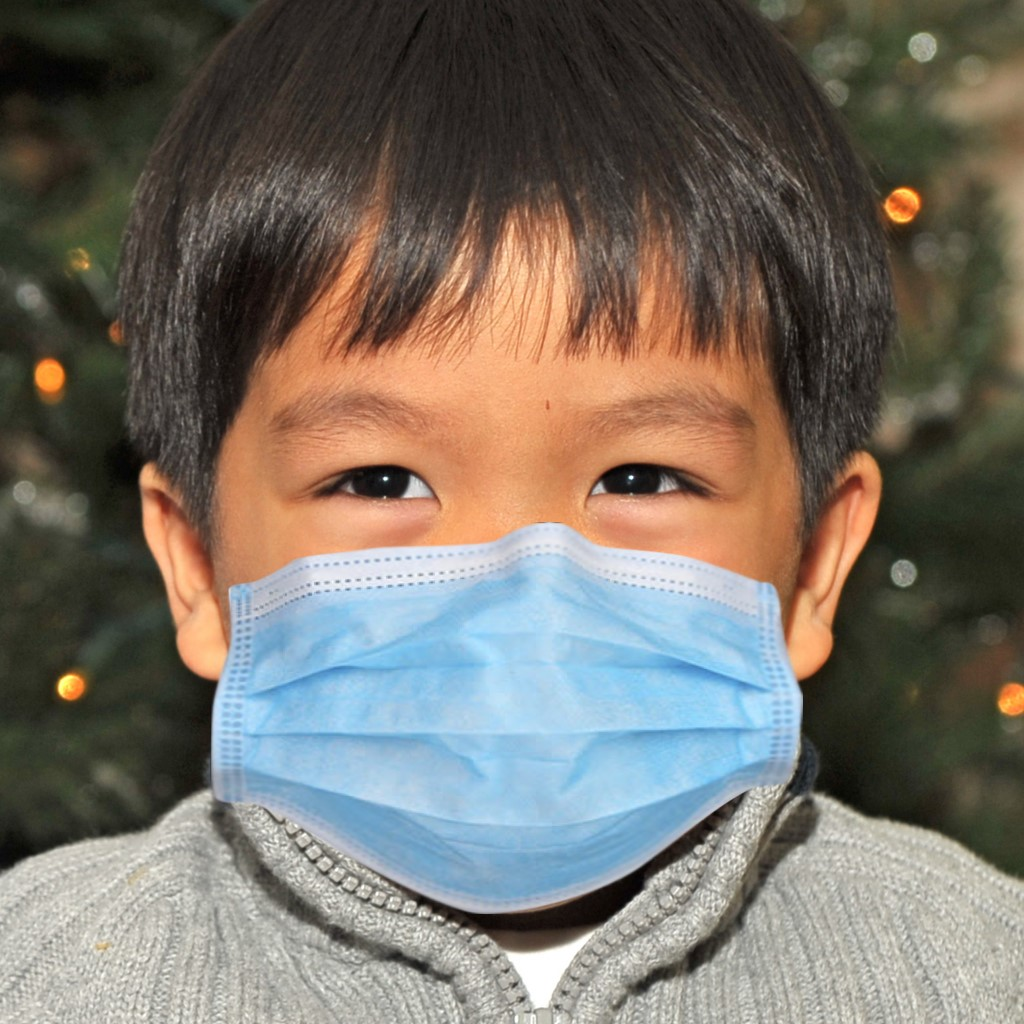con_mascara: (169, 144, 819, 906)
